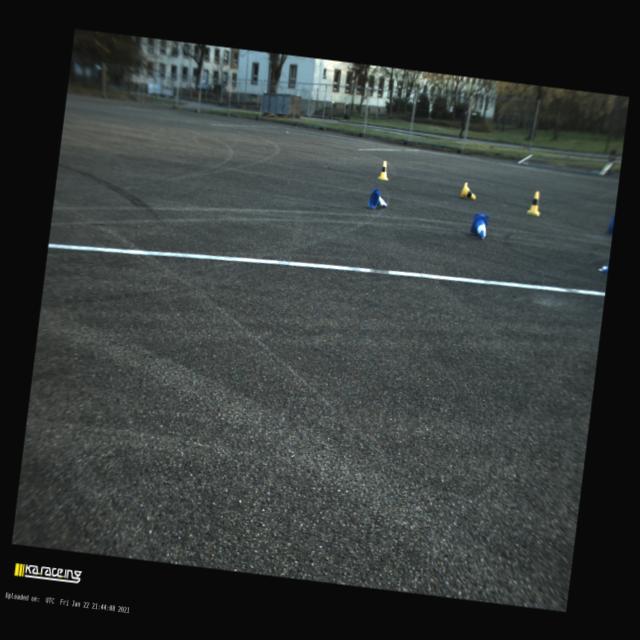blue_cone: (468, 212, 488, 239), (367, 188, 388, 210)
yellow_cone: (526, 190, 542, 216), (459, 181, 477, 199), (376, 160, 389, 180)
